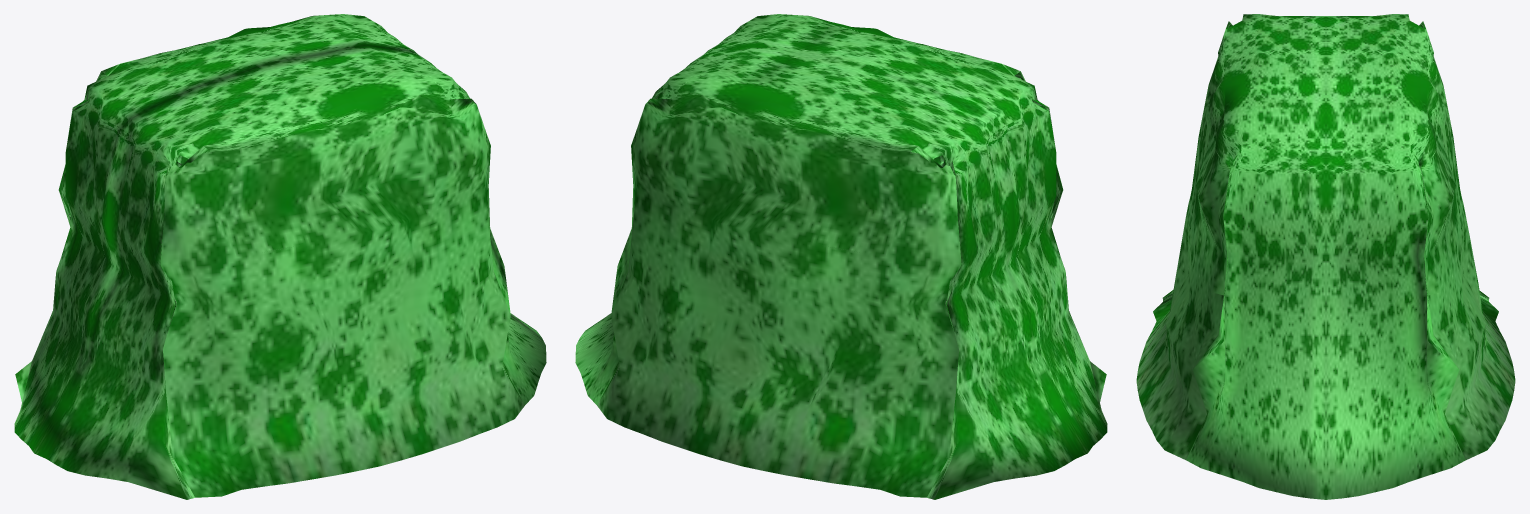
The model's file is King_blob.glb.
3 views of the same model, side by side, from view 1: azimuth 30°, elevation 25°; view 2: azimuth 150°, elevation 25°; view 3: azimuth 270°, elevation 25° (orthographic). The views are drawn at different scales.
Parts seen in each view (by area): view 1: Cube; view 2: Cube; view 3: Cube.
Boxes of the visible parts, x1,y1,x2,y2 form: Cube: [14, 14, 546, 499]; Cube: [575, 14, 1107, 499]; Cube: [1136, 14, 1515, 499].
Size of the model in its own units: 2.06 by 1.3 by 1.41.
1 material, 1 textured.
